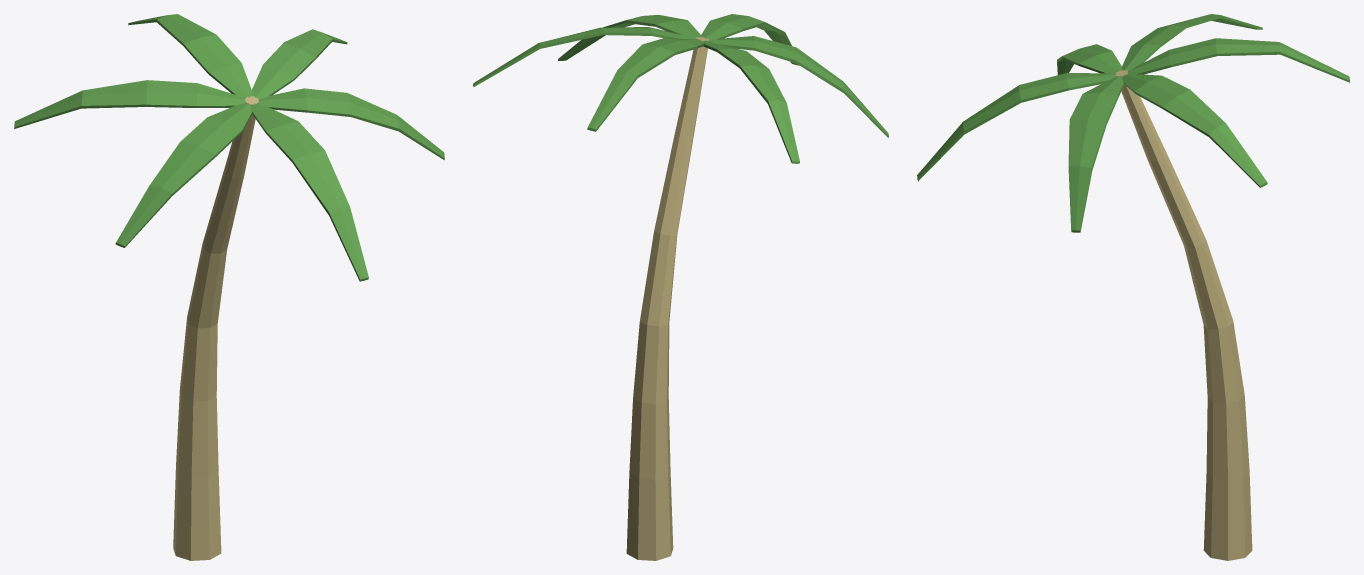
Rendered from Palm Tree002.fbx.
The picture shows the model from 3 angles, left to right: view 1: azimuth 30°, elevation 25°; view 2: azimuth 150°, elevation 25°; view 3: azimuth 270°, elevation 25°; orthographic projection. The views are drawn at different scales.
Visible parts, largest first — view 1: Cube; view 2: Cube; view 3: Cube.
Part boxes in pixels (x1,y1,x2,y2): Cube: (14, 14, 444, 560); Cube: (473, 14, 888, 560); Cube: (917, 14, 1349, 560).
Size of the model in its own units: 1058 by 1540 by 1197.
